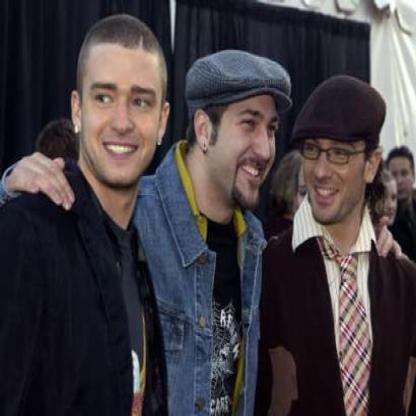face: (81, 17, 166, 189), (210, 62, 285, 215), (301, 83, 370, 229), (368, 169, 401, 230), (389, 149, 416, 202)
